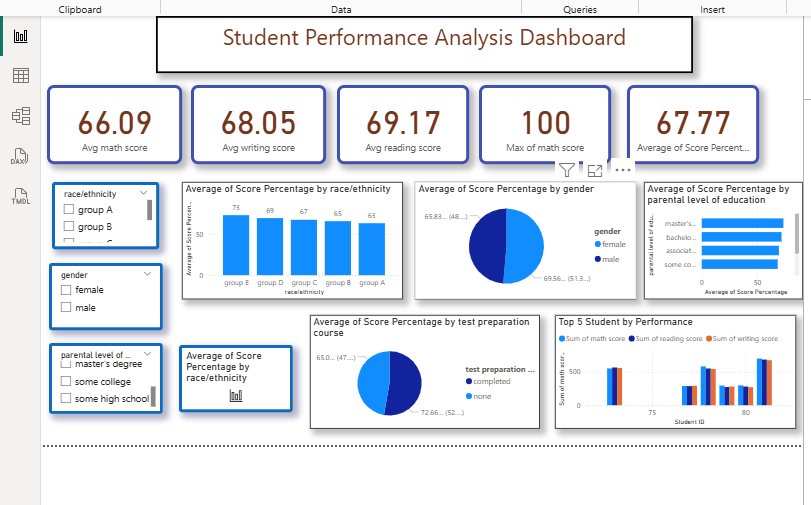

The page's visual inventory and layout, read from the dashboard file:
{"tool":"powerbi","page":{"name":"Page 1","canvas":[1280,720],"ordinal":0},"visuals":[{"type":"textbox","box":[193.2,0,902,95.7],"z":0},{"type":"card","fields":{"Values":["Avg(StudentsPerformance.math score)"]},"box":[10.1,115.9,226.8,132.7],"z":1000},{"type":"card","fields":{"Values":["Avg(StudentsPerformance.writing score)"]},"box":[252,115.9,226.8,132.7],"z":2000},{"type":"card","fields":{"Values":["Avg(StudentsPerformance.reading score)"]},"box":[497.2,115.9,221.7,132.7],"z":3000},{"type":"card","fields":{"Values":["Max(StudentsPerformance.math score)"]},"box":[735.7,115.9,221.7,132.7],"z":4000},{"type":"slicer","fields":{"Values":["StudentsPerformance.race/ethnicity"]},"box":[18.5,278.8,179.7,112.5],"z":6000},{"type":"slicer","fields":{"Values":["StudentsPerformance.gender"]},"box":[13.4,414.9,191.5,112.5],"z":7000},{"type":"card","fields":{"Values":["Avg(StudentsPerformance.Score Percentage)"]},"box":[984.4,115.9,221.7,132.7],"z":8000},{"type":"slicer","fields":{"Values":["StudentsPerformance.parental level of education"]},"box":[13.4,549.3,191.5,119.3],"z":9000},{"type":"columnChart","fields":{"Category":["StudentsPerformance.race/ethnicity"],"Y":["Avg(StudentsPerformance.Score Percentage)"]},"box":[236.9,278.8,371.2,196.5],"z":10000},{"type":"pieChart","fields":{"Category":["StudentsPerformance.gender"],"Y":["Avg(StudentsPerformance.Score Percentage)"]},"box":[628.2,278.8,371.2,196.5],"z":11000},{"type":"pieChart","fields":{"Category":["StudentsPerformance.test preparation course"],"Y":["Avg(StudentsPerformance.Score Percentage)"]},"box":[451.9,502.3,386.4,191.5],"z":11002},{"type":"clusteredBarChart","fields":{"Category":["StudentsPerformance.parental level of education"],"Y":["Avg(StudentsPerformance.Score Percentage)"]},"box":[1012.9,278.8,267.1,196.5],"z":11003},{"type":"clusteredBarChart","fields":{"Y":["Avg(StudentsPerformance.Score Percentage)"],"Category":["StudentsPerformance.race/ethnicity","StudentsPerformance.parental level of education"]},"box":[231.8,552.7,191.5,112.5],"z":11004},{"type":"clusteredColumnChart","title":" Top 5 Student by Performance","fields":{"Category":["StudentsPerformance.Student ID"],"Y":["Sum(StudentsPerformance.math score)","Sum(StudentsPerformance.reading score)","Sum(StudentsPerformance.writing score)"]},"box":[863.4,502.3,404.8,191.5],"z":11005}]}

Visuals, with their boxes in screenshot pixels (x1, y1, x2, y2):
textbox: l=152, t=13, r=696, b=70
card - Avg(StudentsPerformance.math score): l=42, t=83, r=179, b=162
card - Avg(StudentsPerformance.writing score): l=188, t=83, r=324, b=162
card - Avg(StudentsPerformance.reading score): l=336, t=83, r=469, b=162
card - Max(StudentsPerformance.math score): l=479, t=83, r=613, b=162
slicer - StudentsPerformance.race/ethnicity: l=47, t=181, r=155, b=248
slicer - StudentsPerformance.gender: l=44, t=263, r=159, b=331
card - Avg(StudentsPerformance.Score Percentage): l=629, t=83, r=763, b=162
slicer - StudentsPerformance.parental level of education: l=44, t=344, r=159, b=416
columnChart - StudentsPerformance.race/ethnicity x Avg(StudentsPerformance.Score Percentage): l=179, t=181, r=402, b=299
pieChart - StudentsPerformance.gender x Avg(StudentsPerformance.Score Percentage): l=415, t=181, r=638, b=299
pieChart - StudentsPerformance.test preparation course x Avg(StudentsPerformance.Score Percentage): l=308, t=315, r=541, b=431
clusteredBarChart - StudentsPerformance.parental level of education x Avg(StudentsPerformance.Score Percentage): l=646, t=181, r=807, b=299
clusteredBarChart - Avg(StudentsPerformance.Score Percentage) x StudentsPerformance.race/ethnicity: l=176, t=346, r=291, b=414
" Top 5 Student by Performance" clusteredColumnChart: l=556, t=315, r=800, b=431
